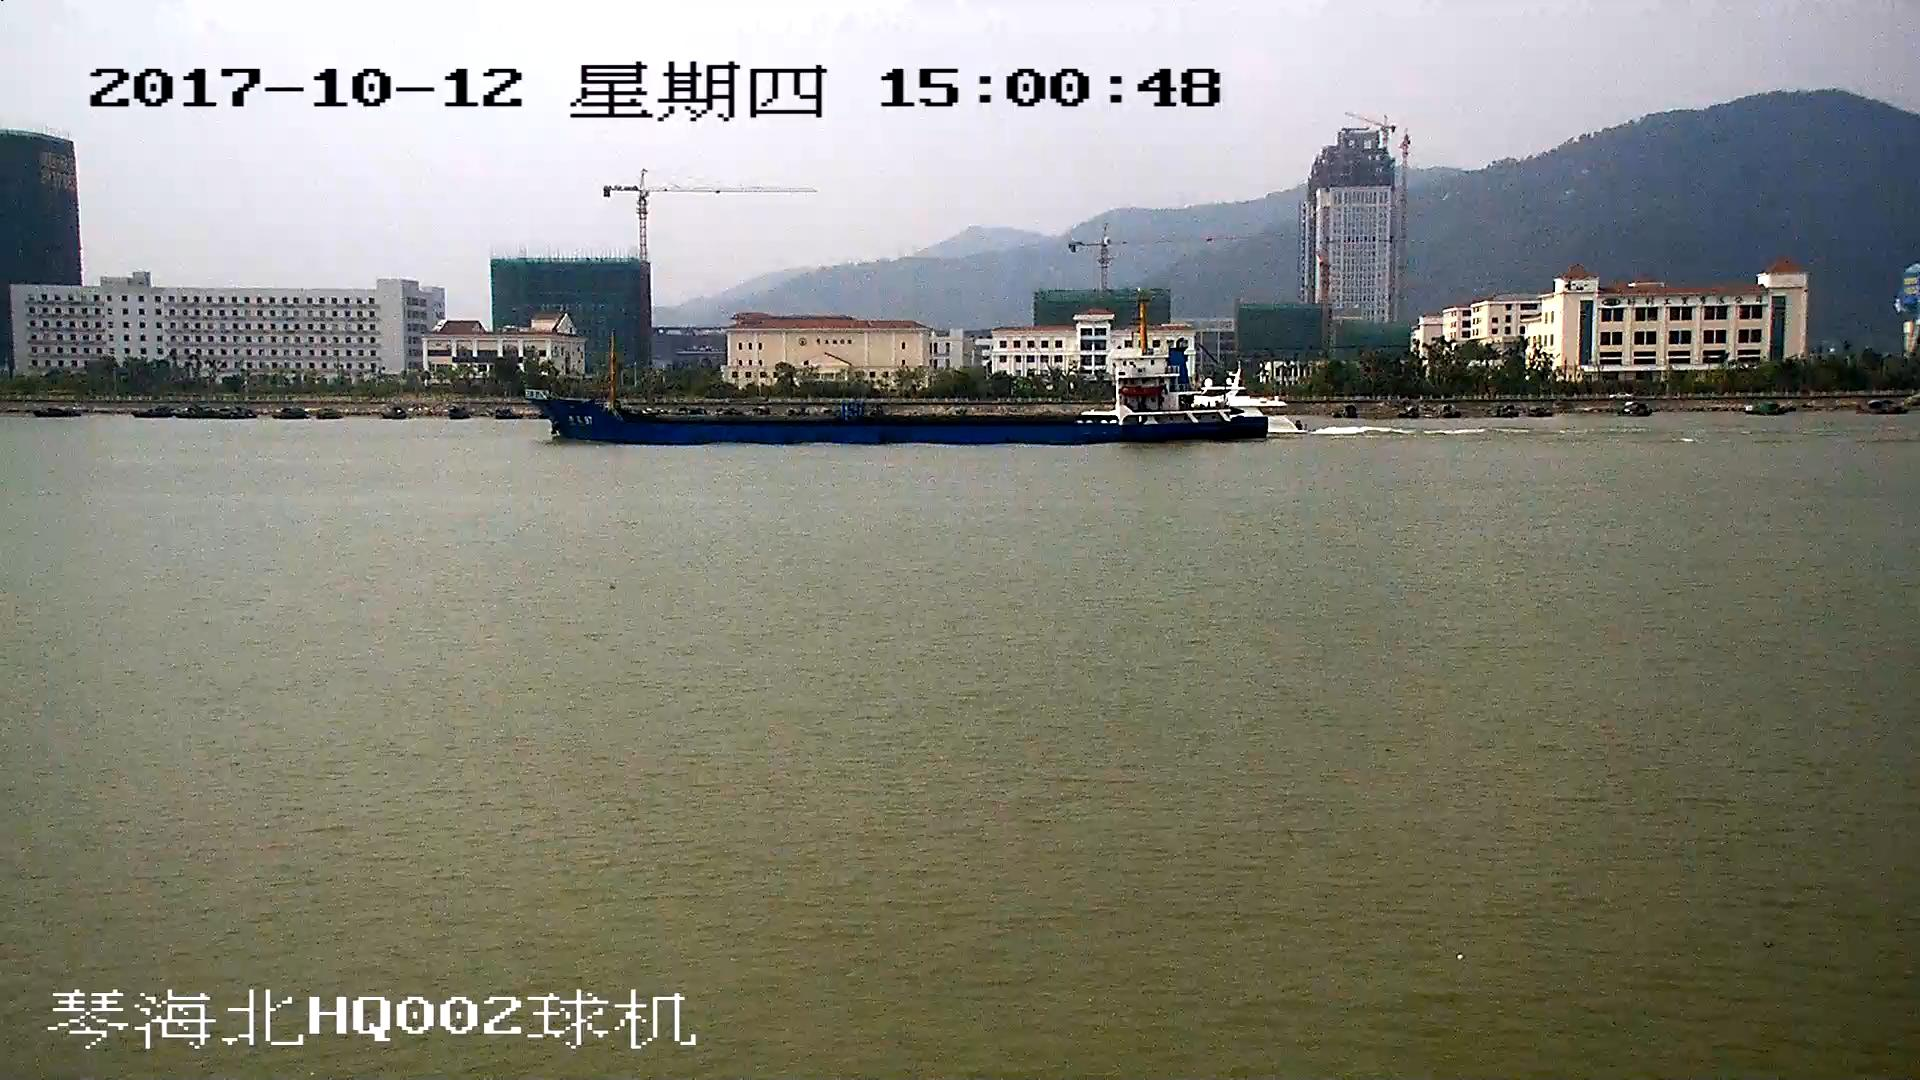general cargo ship: (527, 303, 1282, 443)
